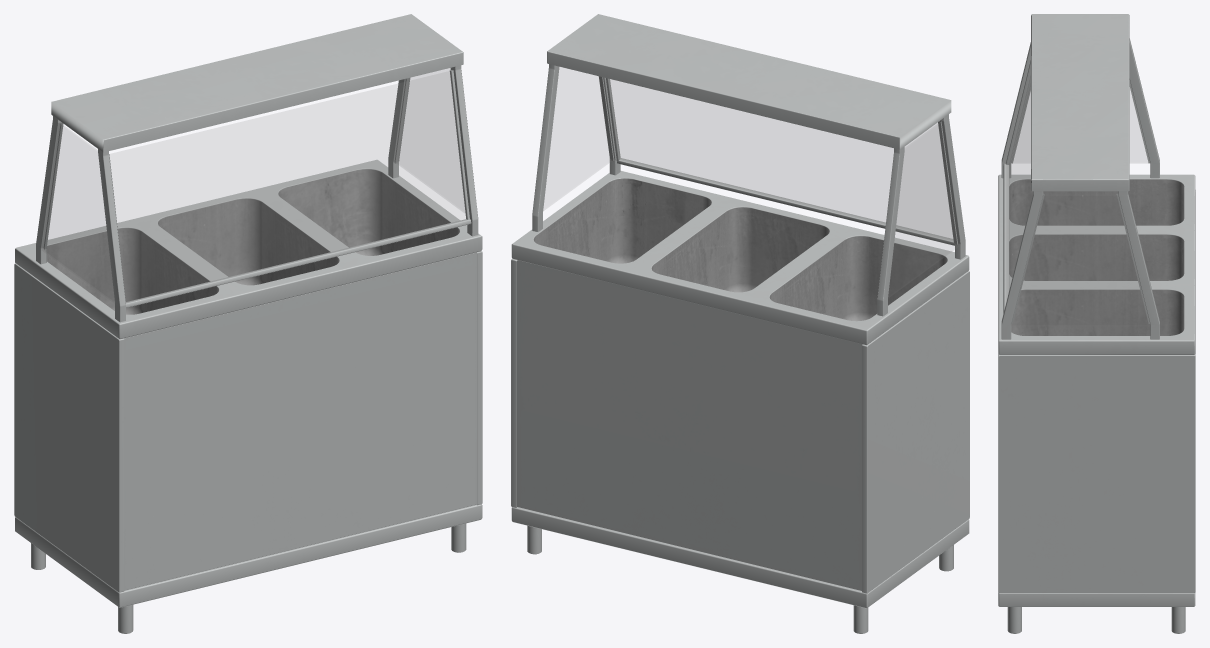
The model's file is ServingLine_01.FBX.
3 renders of one model, left to right at view 1: azimuth 30°, elevation 25°; view 2: azimuth 150°, elevation 25°; view 3: azimuth 270°, elevation 25°, orthographic. The views are drawn at different scales.
Parts seen in each view (by area): view 1: ServingLine_01; view 2: ServingLine_01; view 3: ServingLine_01.
Boxes of the visible parts, left/top/right/bottom form: ServingLine_01: left=14, top=14, right=482, bottom=633; ServingLine_01: left=511, top=14, right=969, bottom=633; ServingLine_01: left=998, top=14, right=1195, bottom=633.
Size of the model in its own units: 120 by 154 by 60.13.
2 materials, 1 textured.
